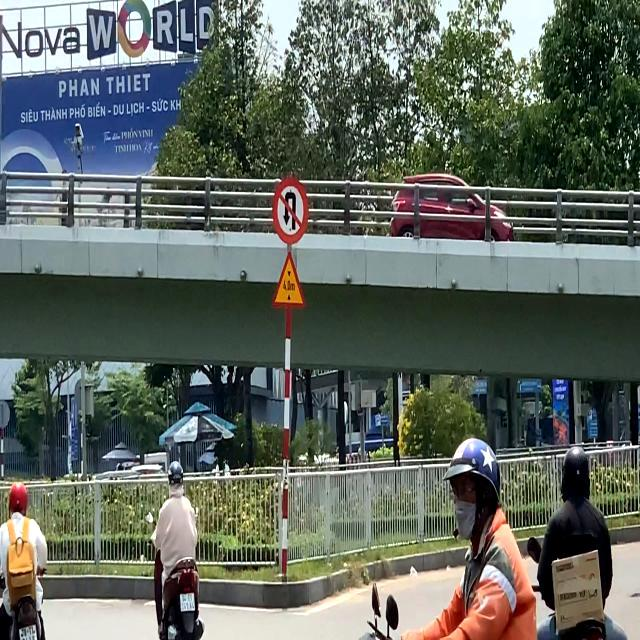Cam quay dau xe: (272, 178, 310, 246)
Chieu cao an toan: (269, 248, 307, 312)
